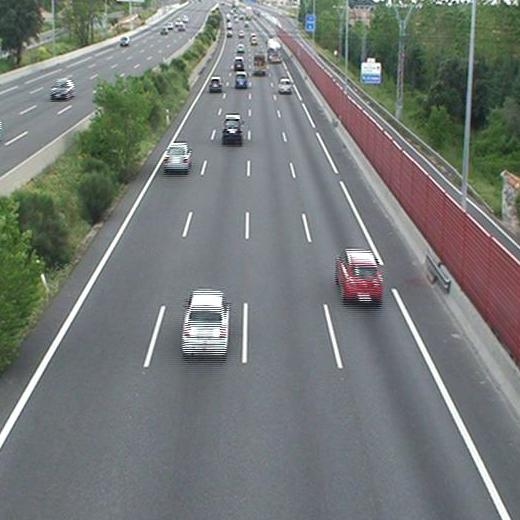car: (182, 292, 228, 355), (334, 250, 382, 301), (164, 144, 190, 169), (223, 116, 243, 140), (279, 79, 292, 92), (209, 77, 222, 90), (237, 45, 245, 53)
small-truck: (253, 53, 267, 74)
tank-truck: (267, 38, 281, 61)
van: (235, 72, 246, 88), (234, 56, 243, 70)
